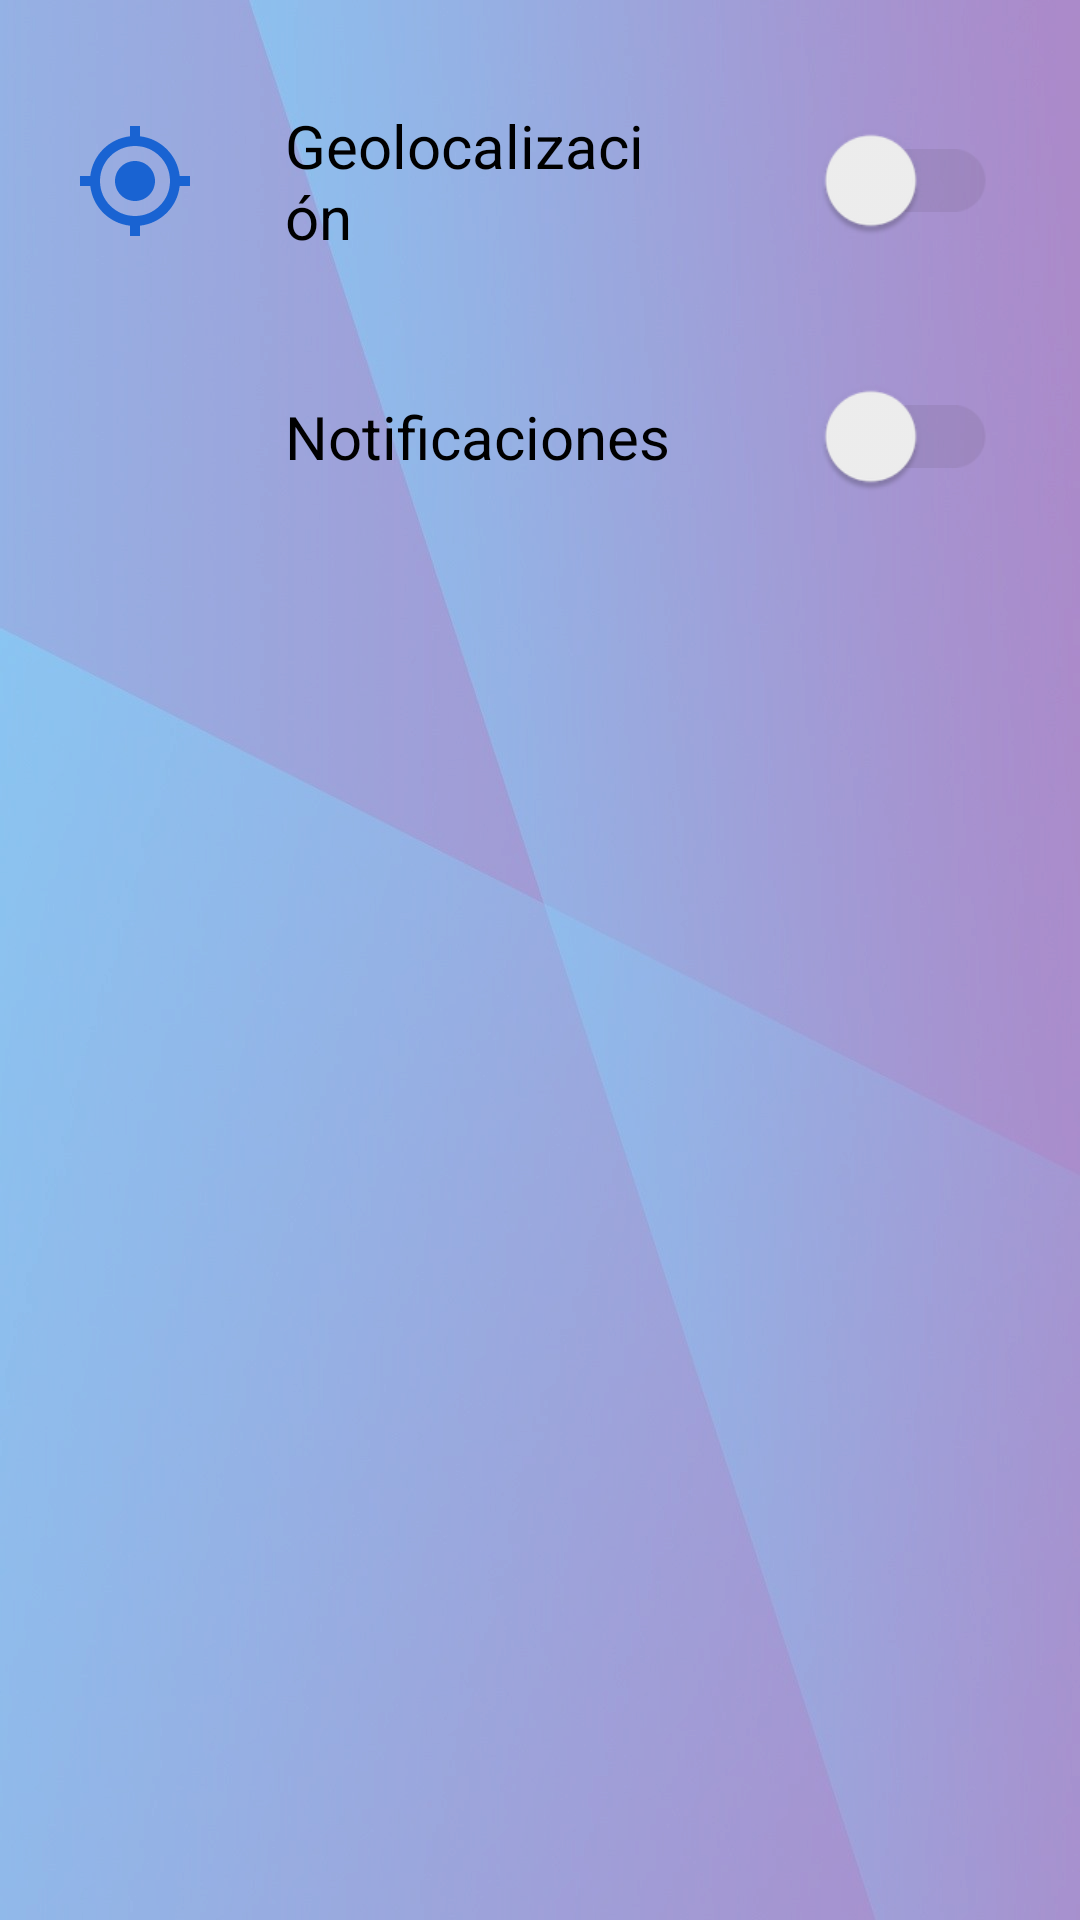

Screen size 1080 × 1920. Icon name, then its box in pixels as (left=x1, top=y1, right=x2, bottom=y2):
geolocation: (left=80, top=126, right=190, bottom=236)
